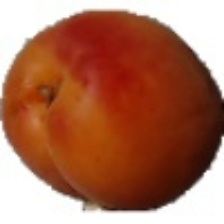apricot: (34, 60, 199, 204)
